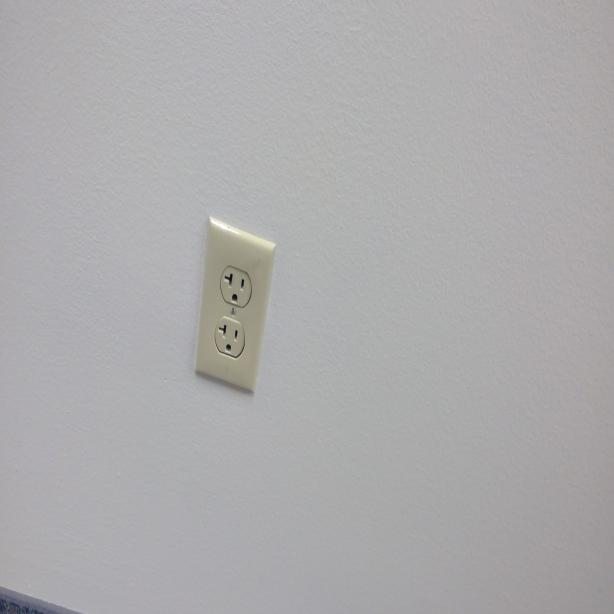typeb: (220, 262, 252, 308), (215, 314, 245, 358)
